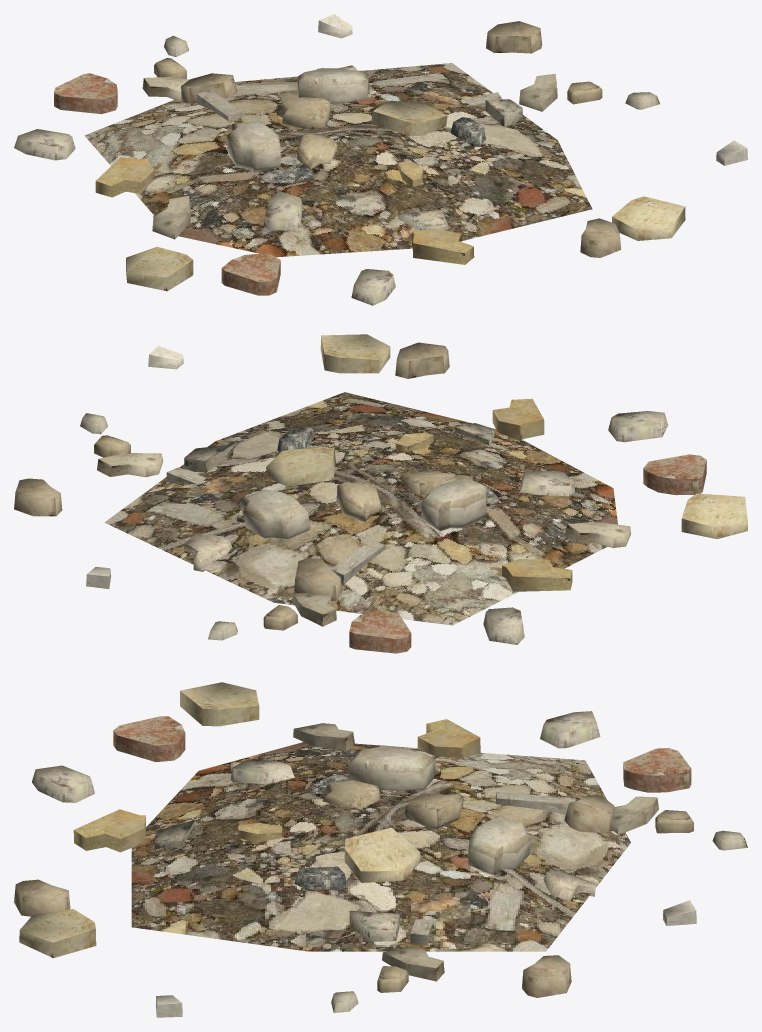
The model's file is debris01.glb.
3 views of the same model, one above another, from view 1: azimuth 30°, elevation 25°; view 2: azimuth 150°, elevation 25°; view 3: azimuth 270°, elevation 25° (orthographic). The views are drawn at different scales.
Visible parts, largest first — view 1: debris_01; view 2: debris_01; view 3: debris_01.
Boxes of the visible parts, bbox=[...] form: debris_01: bbox=[14, 14, 747, 305]; debris_01: bbox=[14, 334, 747, 653]; debris_01: bbox=[14, 682, 747, 1017].
Bounding box in the file's own units: 3.07 × 0.2385 × 2.94.
1 material, 1 textured.
